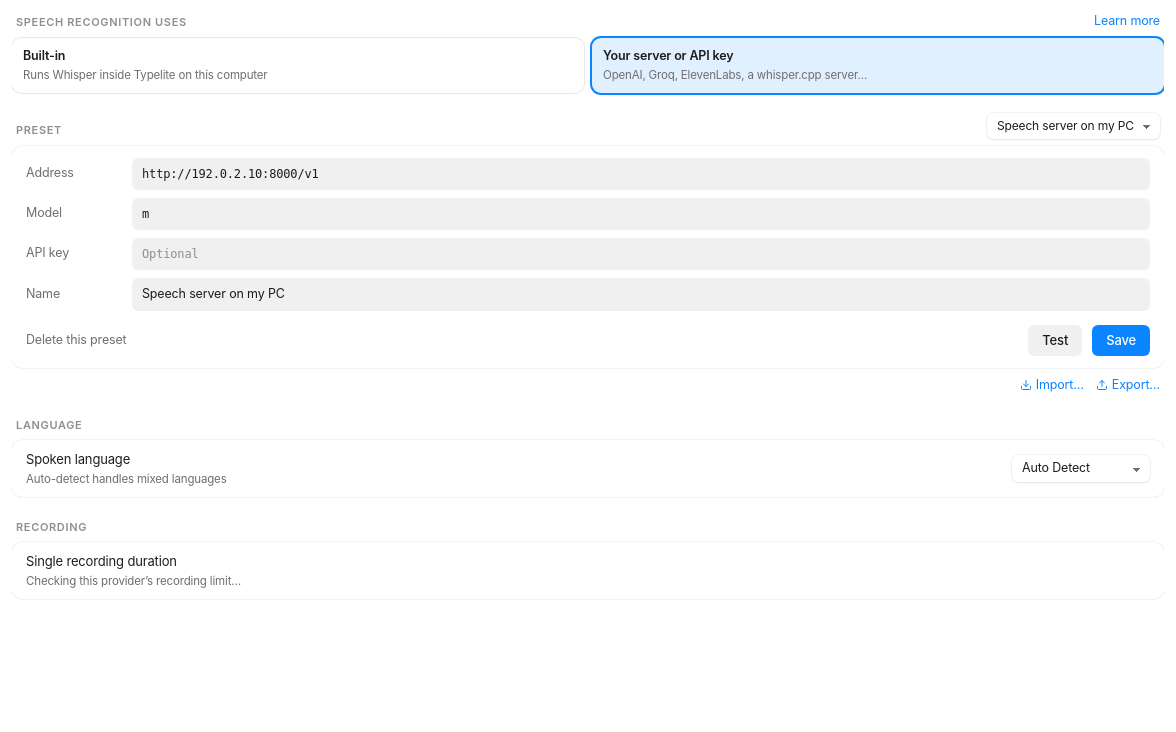
Test case: SttPane › Speech recognition uses › has one Learn more, on the "Speech recognition uses" header (plan `ai-polish-setup`)
The image size is (1176, 732).
Expected: the number of buttons "Learn more" is 1, [1094,12,1160,31]
Click the radio button labelled "Built-in Runs Whisper inside Typelite on this computer".
click(44, 55)  # box [12,38,584,93]
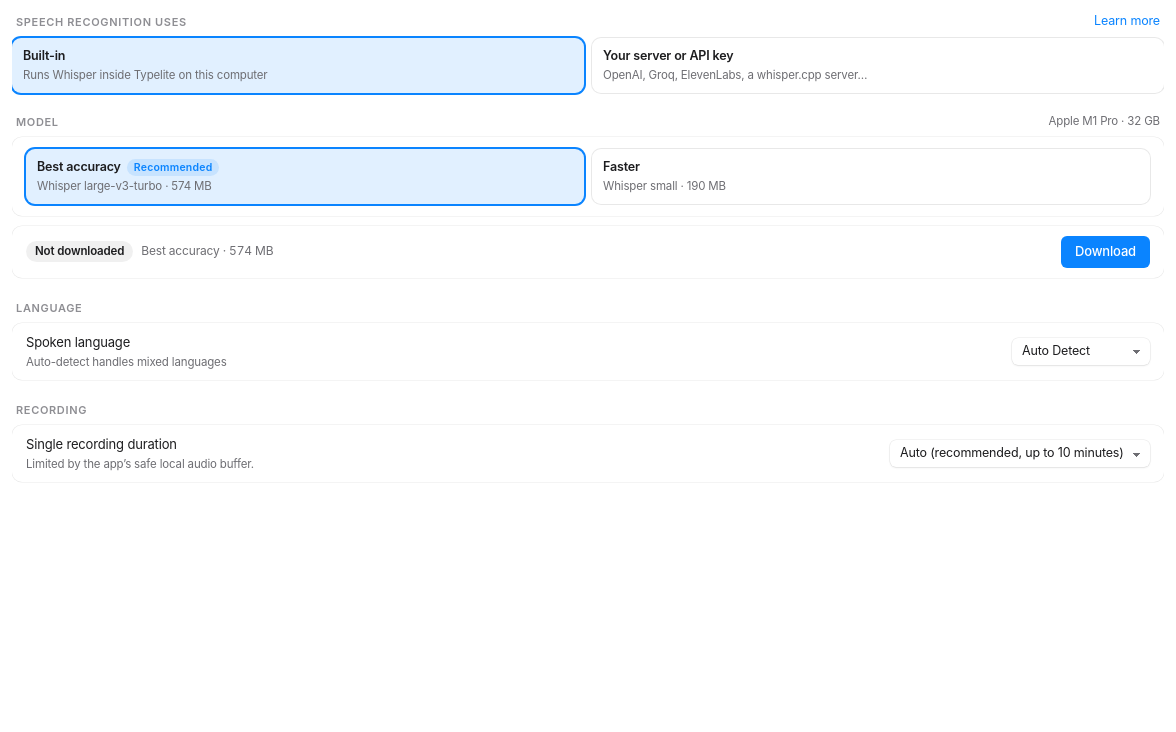
Expected: the element with test id "builtin-settings" is shown, [12,113,1164,278]
Expected: the number of buttons "Learn more" is 1, [1094,12,1160,31]
